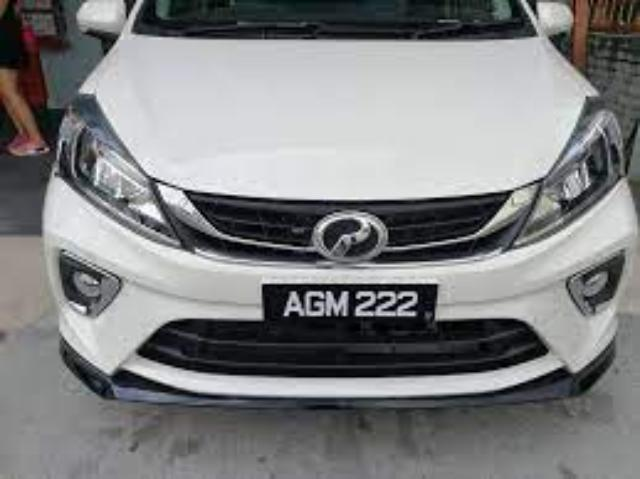License_Plate: (254, 282, 446, 327)
car: (48, 1, 636, 403)
